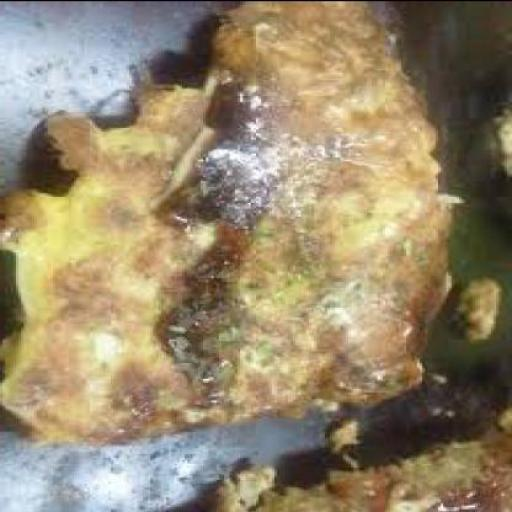biodegradable: (2, 2, 456, 447), (216, 408, 512, 510), (460, 281, 502, 342), (330, 417, 364, 454), (496, 106, 511, 178)
